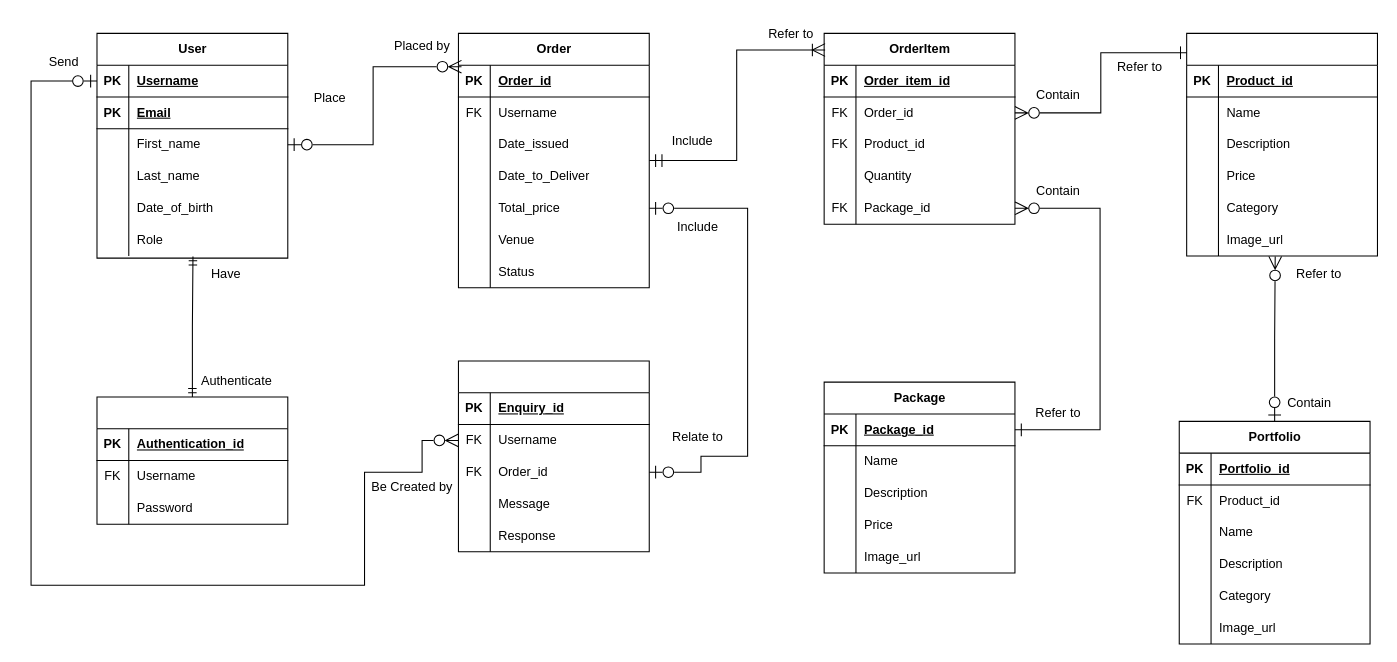
This 1397x662 diagram has some shape labels left out. Here are the shapes that lost their labels. From the top down, the box of each, then its label:
(1186, 32, 1377, 256): DecorProduct
(96, 396, 288, 524): User_Authentication
(457, 360, 649, 552): ContactEnquiry
